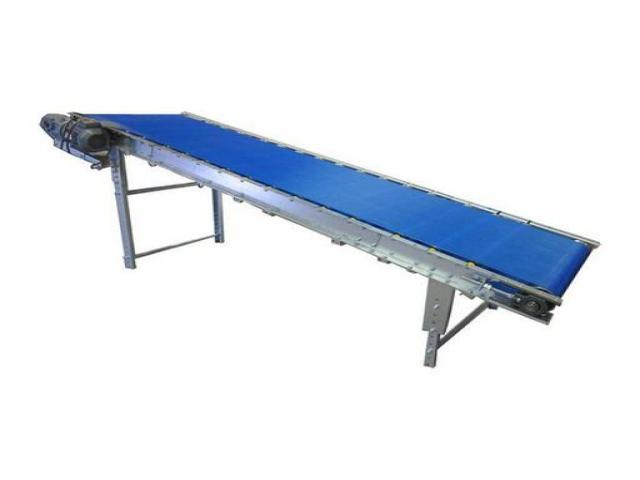conveyor: (36, 108, 602, 368)
